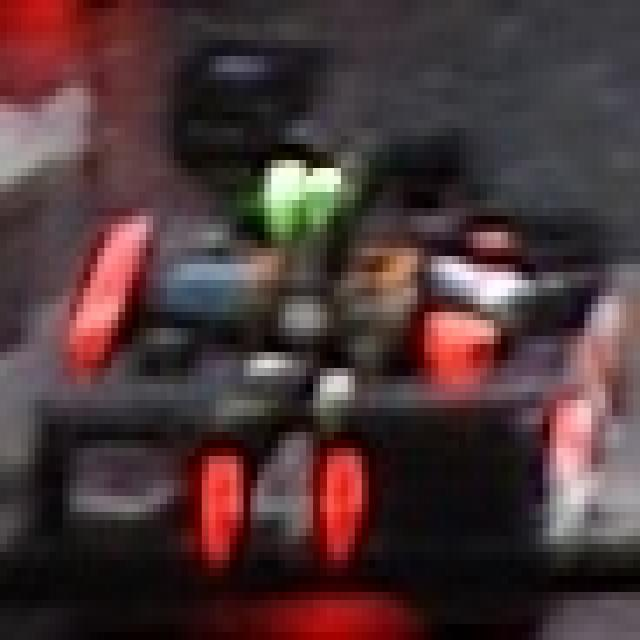R4: (188, 424, 362, 568)
